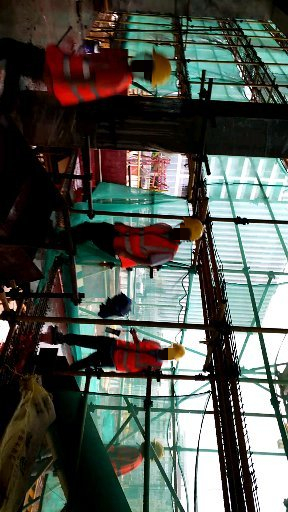helmet: (152, 50, 172, 91), (185, 218, 204, 243), (167, 342, 186, 362), (151, 440, 164, 458)
person: (1, 214, 207, 273), (4, 36, 174, 101), (37, 327, 198, 373), (77, 440, 170, 478)
vest: (46, 43, 133, 107), (112, 220, 176, 270), (115, 338, 162, 374), (105, 443, 144, 476)
